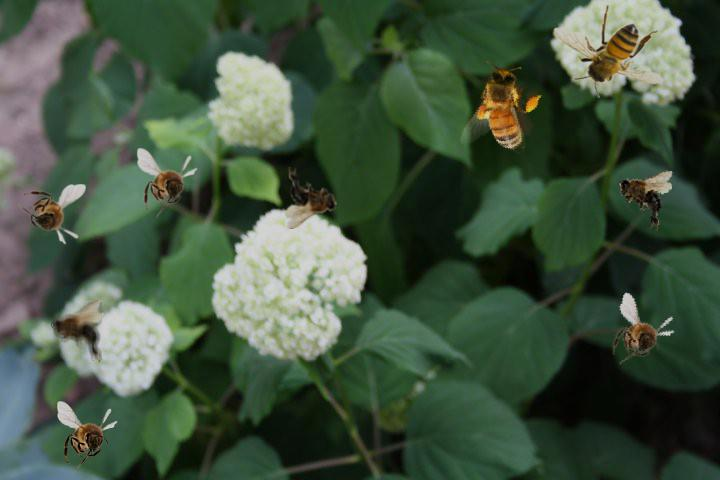Bee: (454, 54, 552, 167), (553, 4, 664, 98), (600, 291, 683, 379), (609, 159, 676, 233), (16, 184, 86, 245), (137, 148, 198, 218), (57, 401, 118, 471), (285, 167, 338, 229), (51, 300, 104, 362)
